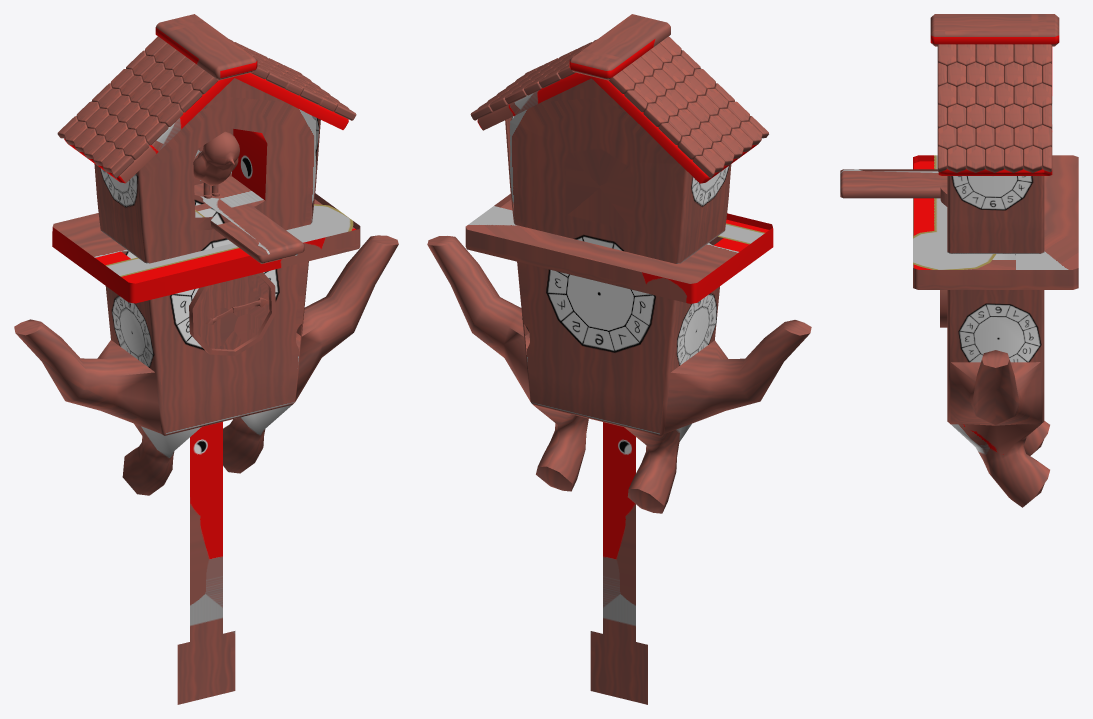
The model's file is SM_KooKoo_Clock_02.fbx.
3 views of the same model, side by side, from view 1: azimuth 30°, elevation 25°; view 2: azimuth 150°, elevation 25°; view 3: azimuth 270°, elevation 25° (orthographic).
Parts seen in each view (by area): view 1: KooKoo_Clock_combined_Bird_04, KooKoo_Clock_combined_Bird_05; view 2: KooKoo_Clock_combined_Bird_04; view 3: KooKoo_Clock_combined_Bird_04.
Part boxes in pixels (box(x1,y1,x2,y2)): KooKoo_Clock_combined_Bird_04: box(14, 14, 398, 704); KooKoo_Clock_combined_Bird_05: box(189, 272, 275, 355); KooKoo_Clock_combined_Bird_04: box(427, 14, 811, 704); KooKoo_Clock_combined_Bird_04: box(840, 14, 1078, 507).
Size of the model in its own units: 665 by 1095 by 354.
1 material, 1 textured.
